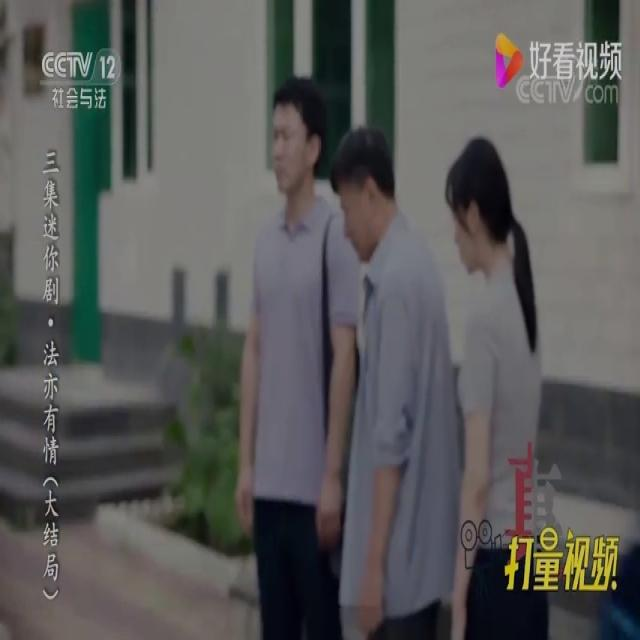non-fight: (237, 73, 356, 640), (331, 120, 455, 640), (444, 140, 548, 640)
